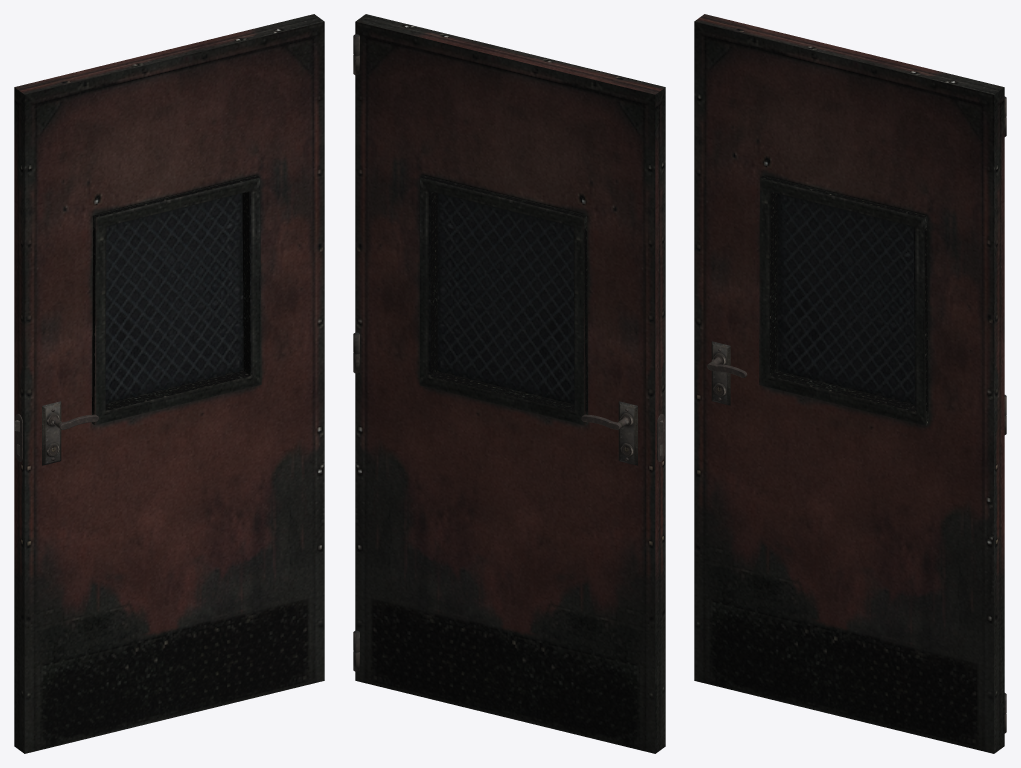
Rendered from door_4.obj.
The picture shows the model from 3 angles, left to right: view 1: azimuth 30°, elevation 25°; view 2: azimuth 150°, elevation 25°; view 3: azimuth 330°, elevation 25°; orthographic projection.
Parts seen in each view (by area): view 1: door_4; view 2: door_4; view 3: door_4.
Part boxes in pixels (x1,y1,x2,y2): door_4: (14,14,324,753); door_4: (353,14,665,753); door_4: (694,14,1006,753).
Bounding box in the file's own units: 1.01 × 2.1 × 0.194.
